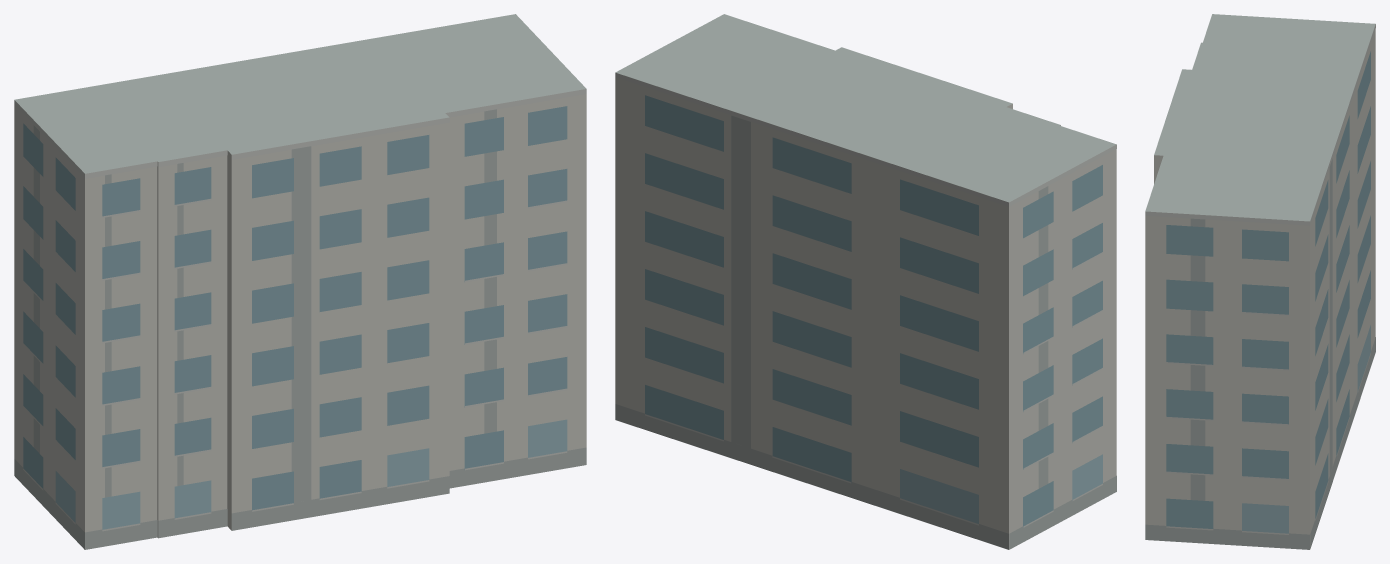
File: survey-upis-32815771.glb
3 renders of one model, left to right at view 1: azimuth 30°, elevation 25°; view 2: azimuth 150°, elevation 25°; view 3: azimuth 270°, elevation 25°, orthographic. The views are drawn at different scales.
Visible parts, largest first — view 1: survey-upis-32815771.tmp; view 2: survey-upis-32815771.tmp; view 3: survey-upis-32815771.tmp.
Boxes of the visible parts, <box> form: survey-upis-32815771.tmp: <box>14,14,586,549</box>; survey-upis-32815771.tmp: <box>615,14,1116,549</box>; survey-upis-32815771.tmp: <box>1145,14,1375,549</box>.
Size of the model in its own units: 24.8 by 18.3 by 11.65.
